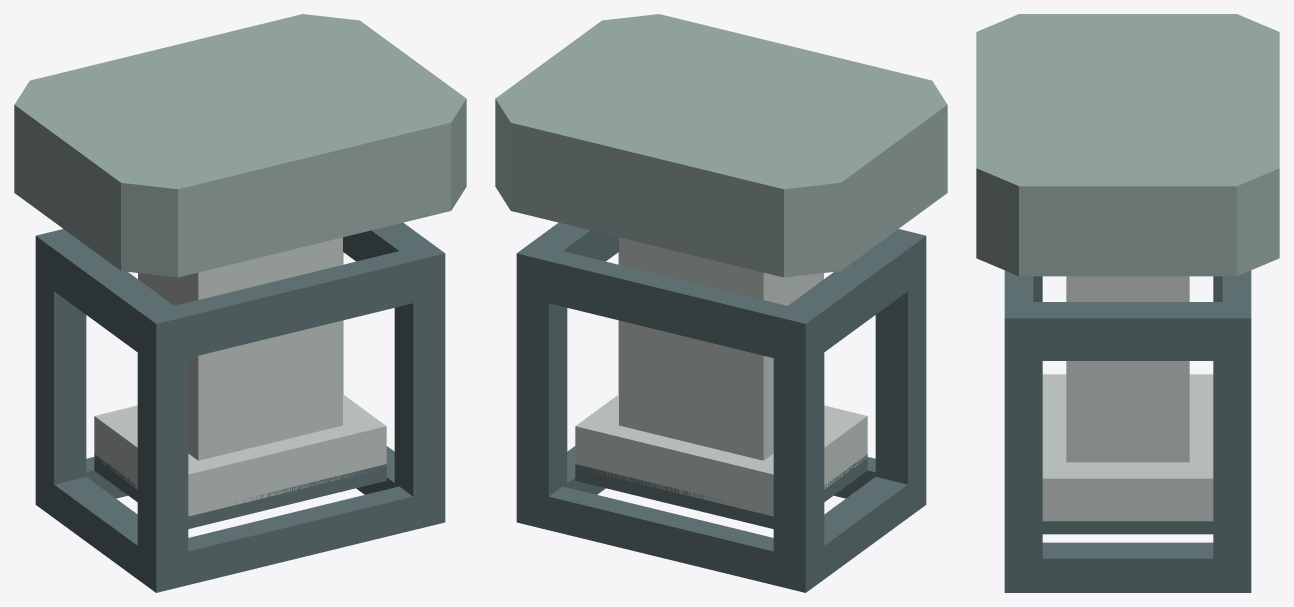
3 renders of one model, left to right at view 1: azimuth 30°, elevation 25°; view 2: azimuth 150°, elevation 25°; view 3: azimuth 270°, elevation 25°, orthographic. The views are drawn at different scales.
Parts seen in each view (by area): view 1: WholeWideChamferedPressCap, WholeFourWindowGuideFrameAndAnnularGroundFoot, WholeCentralRectangularPlunger, WholeLowerStampingPlaten, WholeBlankRaisedStampPad; view 2: WholeWideChamferedPressCap, WholeFourWindowGuideFrameAndAnnularGroundFoot, WholeCentralRectangularPlunger, WholeLowerStampingPlaten, WholeBlankRaisedStampPad; view 3: WholeWideChamferedPressCap, WholeFourWindowGuideFrameAndAnnularGroundFoot, WholeCentralRectangularPlunger, WholeLowerStampingPlaten, WholeBlankRaisedStampPad.
Part boxes in pixels (x1,y1,x2,y2): WholeWideChamferedPressCap: [14, 14, 466, 277]; WholeFourWindowGuideFrameAndAnnularGroundFoot: [35, 222, 445, 592]; WholeCentralRectangularPlunger: [138, 237, 342, 460]; WholeLowerStampingPlaten: [94, 394, 386, 516]; WholeBlankRaisedStampPad: [94, 454, 386, 528]; WholeWideChamferedPressCap: [495, 14, 947, 277]; WholeFourWindowGuideFrameAndAnnularGroundFoot: [516, 222, 926, 592]; WholeCentralRectangularPlunger: [619, 237, 823, 460]; WholeLowerStampingPlaten: [575, 394, 867, 516]; WholeBlankRaisedStampPad: [575, 454, 867, 528]; WholeWideChamferedPressCap: [976, 14, 1279, 276]; WholeFourWindowGuideFrameAndAnnularGroundFoot: [1004, 270, 1251, 592]; WholeCentralRectangularPlunger: [1066, 276, 1189, 462]; WholeLowerStampingPlaten: [1042, 374, 1213, 521]; WholeBlankRaisedStampPad: [1042, 521, 1213, 534].
Size of the model in its own units: 0.086 by 0.098 by 0.064.
